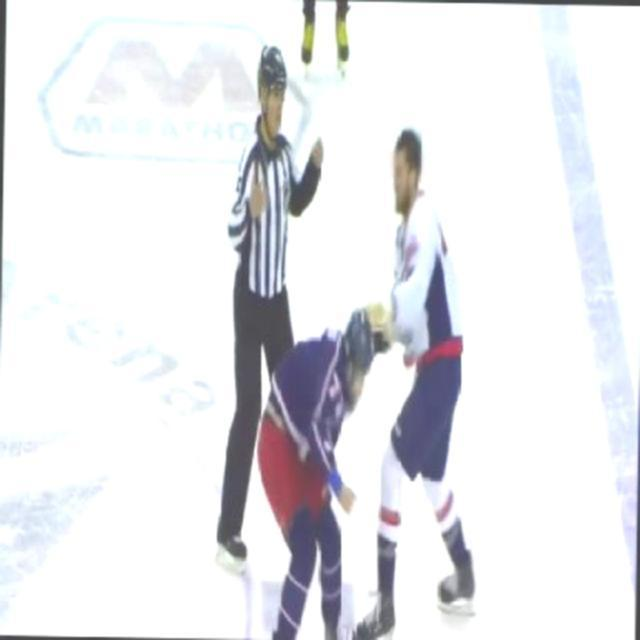fight: (251, 119, 474, 638)
